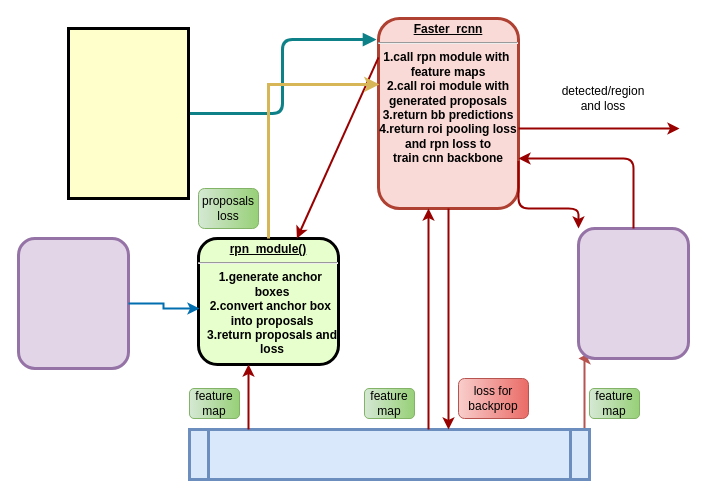
Image size: 707x498. Some labels were removed from this diagram. The shapes that lost their labels are listed below. From the top down, each one's centre as x and y in pixels, then its label:
At point (128, 113): "input to faster/rcnn: image(BxCxWxH) Targets(Gt cordinates,labels )".
At point (73, 303): "TLM 1.Gives a json file to filter out proposals label".
At point (633, 293): "roi pooling() 1.converts proposals tp bb 2.return classification regression loss".
At point (389, 454): "CNN BACKBONE (VGG16/ALEX-NET)".
